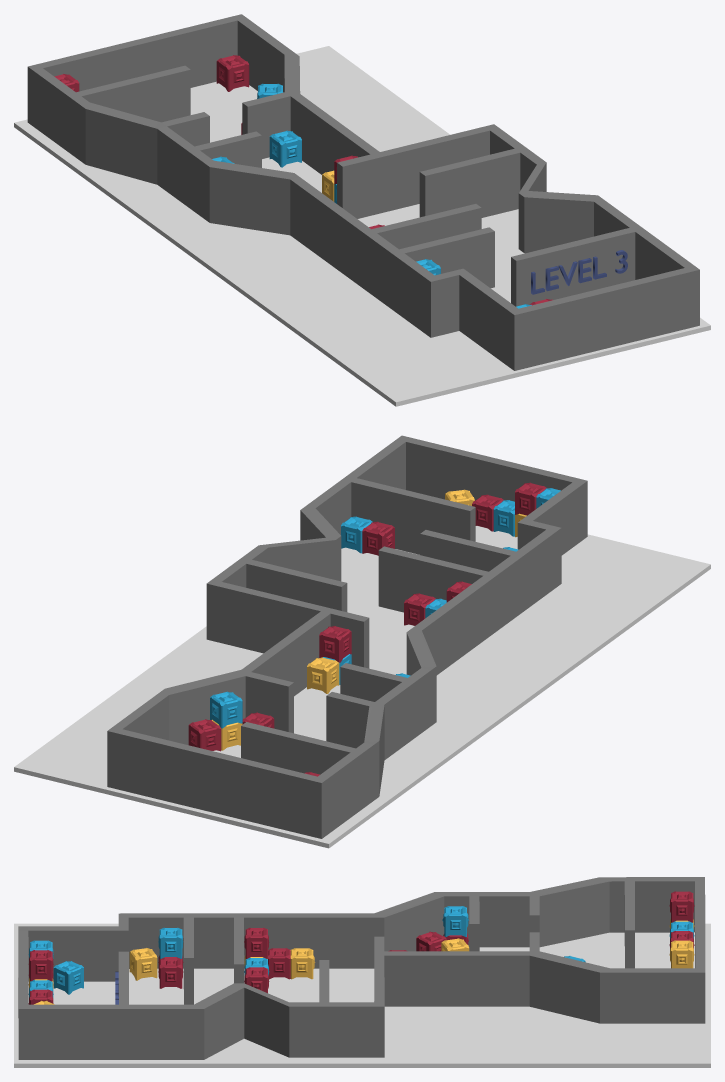
File: level3.fbx
3 views of the same model, one above another, from view 1: azimuth 30°, elevation 25°; view 2: azimuth 150°, elevation 25°; view 3: azimuth 270°, elevation 25° (orthographic). The views are drawn at different scales.
Parts seen in each view (by area): view 1: walls, ground, boxes, Text; view 2: walls, ground, boxes; view 3: walls, ground, boxes.
Part boxes in pixels (x1,y1,x2,y2): walls: (27, 14, 699, 370); ground: (14, 46, 710, 406); boxes: (54, 55, 552, 308); Text: (531, 250, 627, 294); walls: (107, 435, 587, 838); ground: (14, 526, 710, 848); boxes: (188, 482, 560, 776); walls: (18, 877, 705, 1059); ground: (14, 923, 710, 1067); boxes: (28, 891, 694, 1004).
Size of the model in its own units: 6619 by 1215 by 13903.
